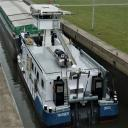tugboat: (15, 4, 121, 128)
